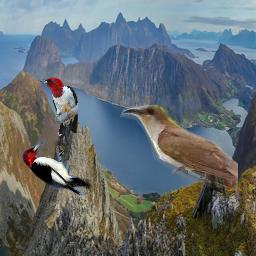Cuckoo: (120, 105, 238, 192)
Woodpecker: (14, 138, 95, 199), (37, 77, 78, 143)
